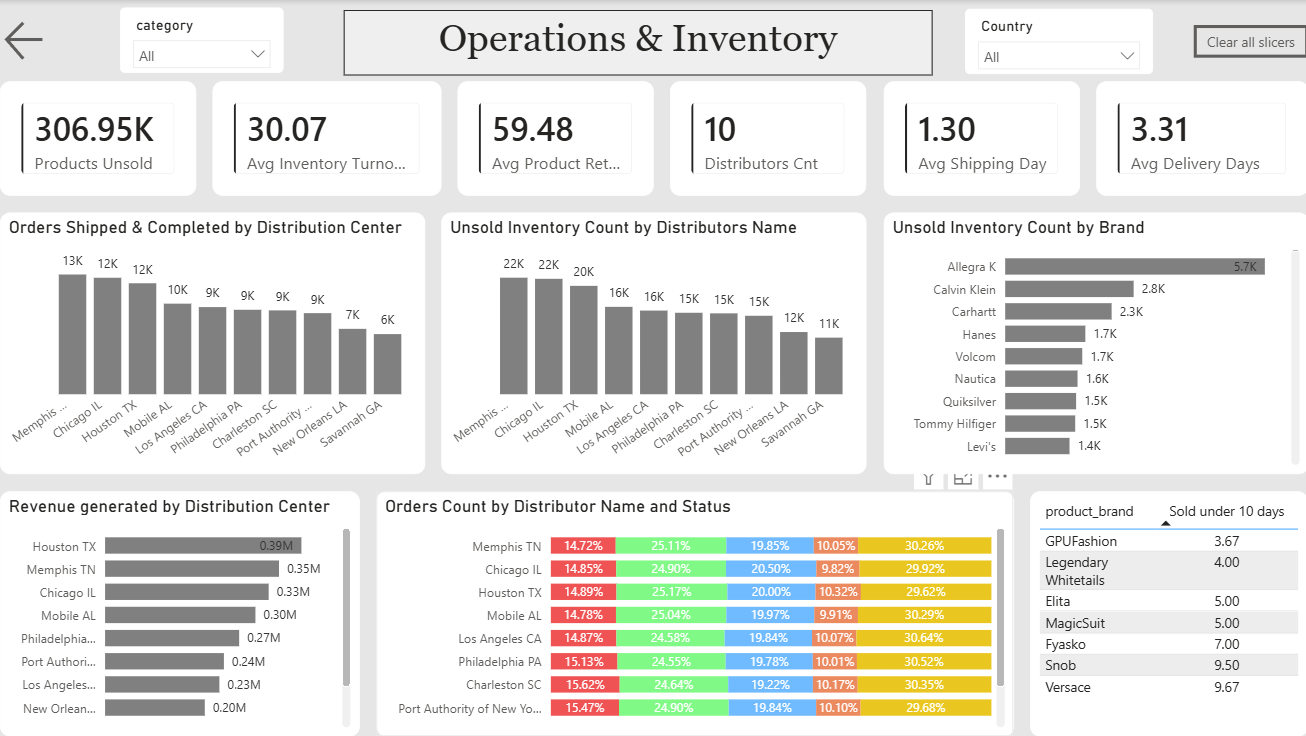

The dashboard page shown, as its layout file describes it:
{"tool":"powerbi","page":{"name":"Operations & Inventory ","canvas":[1280,720],"ordinal":4},"visuals":[{"type":"cardVisual","fields":{"Data":["z4 Operations & Inventory Measures.Avg shipping day"]},"box":[864,80,192,112],"z":0},{"type":"cardVisual","fields":{"Data":["Count(public distribution_centers.name)"]},"box":[656,80,192,112],"z":1000},{"type":"cardVisual","fields":{"Data":["z4 Operations & Inventory Measures.Products unsold cnt"]},"box":[0,80,192,112],"z":2000},{"type":"cardVisual","fields":{"Data":["Avg(public inventory_items.days_took_to_sold)"]},"box":[208,80,224,112],"z":3000},{"type":"cardVisual","fields":{"Data":["z4 Operations & Inventory Measures.Avg Delivery Days"]},"box":[1072,80,208,112],"z":4000},{"type":"textbox","box":[336,10,576,64],"z":5000},{"type":"tableEx","fields":{"Values":["public inventory_items.product_brand","z4 Operations & Inventory Measures.Avg days took to sold"]},"box":[1008,480,272,240],"z":6000},{"type":"cardVisual","fields":{"Data":["Avg(public inventory_items.product_retail_price)"]},"box":[448,80,192,112],"z":7000},{"type":"columnChart","title":"Orders Shipped & Completed by Distribution Center","fields":{"Category":["public distribution_centers.name"],"Y":["z4 Operations & Inventory Measures.most ships distri center"]},"box":[0,208,416,256],"z":8000},{"type":"barChart","title":"Revenue generated by Distribution Center","fields":{"Category":["public distribution_centers.name"],"Y":["z1 Stakeholder Overview Measure.Total Revenue"]},"box":[0,480,352,240],"z":9000},{"type":"slicer","fields":{"Values":["public users.country"]},"box":[944,8,184,64],"z":10000},{"type":"hundredPercentStackedBarChart","title":"Orders Count by Distributor Name and Status","fields":{"Category":["public distribution_centers.name"],"Series":["public order_items.status"],"Y":["CountNonNull(public order_items.order_items_id)"]},"box":[368,480,624,240],"z":11000},{"type":"columnChart","title":"Unsold Inventory Count by Distributors Name","fields":{"Category":["public distribution_centers.name"],"Y":["z4 Operations & Inventory Measures.Unsold Inventory"]},"box":[432,208,416,256],"z":12000},{"type":"clusteredBarChart","title":"Unsold Inventory Count by Brand","fields":{"Y":["z4 Operations & Inventory Measures.Unsold Inventory"],"Category":["public products.brand"]},"box":[864,208,416,256],"z":13000},{"type":"actionButton","box":[0,16,64,48],"z":14000},{"type":"slicer","fields":{"Values":["public products.category"]},"box":[118,7,160,64],"z":15000},{"type":"actionButton","box":[1168,24,112,32],"z":16000}]}

Visuals, with their boxes in screenshot pixels (x1, y1, x2, y2), scaled from the page's 1280x720 canvas onto the 1306x736 screenshot:
cardVisual - z4 Operations & Inventory Measures.Avg shipping day: <bbox>882, 82, 1077, 196</bbox>
cardVisual - Count(public distribution_centers.name): <bbox>669, 82, 865, 196</bbox>
cardVisual - z4 Operations & Inventory Measures.Products unsold cnt: <bbox>0, 82, 196, 196</bbox>
cardVisual - Avg(public inventory_items.days_took_to_sold): <bbox>212, 82, 441, 196</bbox>
cardVisual - z4 Operations & Inventory Measures.Avg Delivery Days: <bbox>1094, 82, 1305, 196</bbox>
textbox: <bbox>343, 10, 931, 76</bbox>
tableEx - public inventory_items.product_brand x z4 Operations & Inventory Measures.Avg days took to sold: <bbox>1028, 491, 1305, 735</bbox>
cardVisual - Avg(public inventory_items.product_retail_price): <bbox>457, 82, 653, 196</bbox>
"Orders Shipped & Completed by Distribution Center" columnChart: <bbox>0, 213, 424, 474</bbox>
"Revenue generated by Distribution Center" barChart: <bbox>0, 491, 359, 735</bbox>
slicer - public users.country: <bbox>963, 8, 1151, 74</bbox>
"Orders Count by Distributor Name and Status" hundredPercentStackedBarChart: <bbox>375, 491, 1012, 735</bbox>
"Unsold Inventory Count by Distributors Name" columnChart: <bbox>441, 213, 865, 474</bbox>
"Unsold Inventory Count by Brand" clusteredBarChart: <bbox>882, 213, 1305, 474</bbox>
actionButton: <bbox>0, 16, 65, 65</bbox>
slicer - public products.category: <bbox>120, 7, 284, 73</bbox>
actionButton: <bbox>1192, 25, 1305, 57</bbox>
